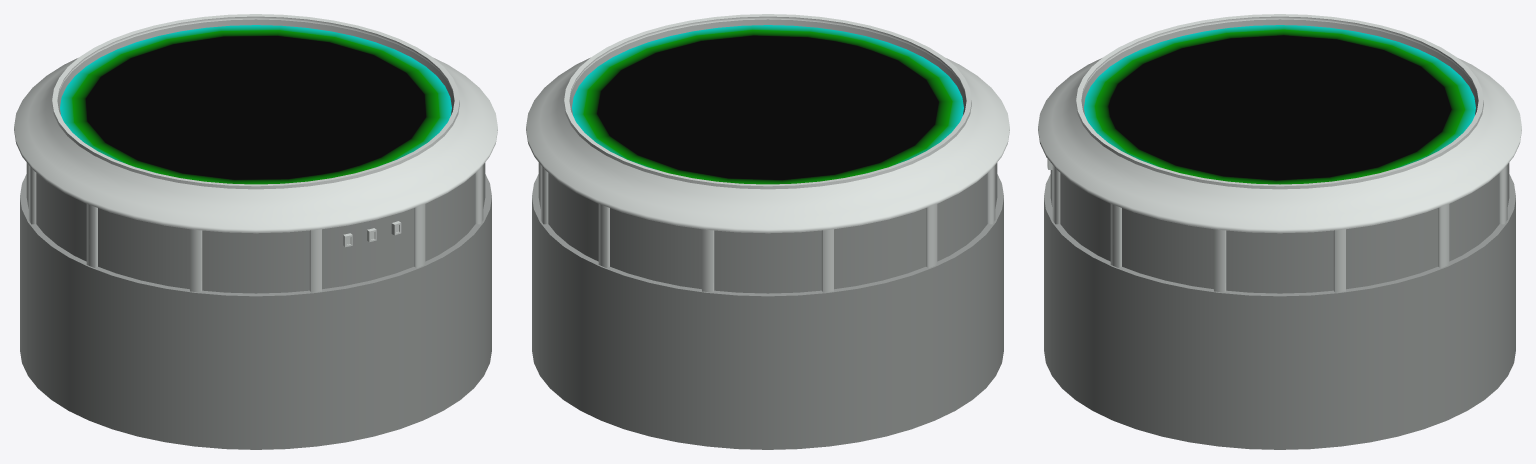
The picture shows the model from 3 angles, left to right: view 1: azimuth 30°, elevation 25°; view 2: azimuth 150°, elevation 25°; view 3: azimuth 270°, elevation 25°; orthographic projection.
Parts seen in each view (by area): view 1: G:\FFXIV-MapTools\exports\e3f2\bg\ex2\02_est_e3\fld\e3f2\bgp (×7); view 2: G:\FFXIV-MapTools\exports\e3f2\bg\ex2\02_est_e3\fld\e3f2\bgp (×7); view 3: G:\FFXIV-MapTools\exports\e3f2\bg\ex2\02_est_e3\fld\e3f2\bgp (×7).
Boxes of the visible parts, <box> form: G:\FFXIV-MapTools\exports\e3f2\bg\ex2\02_est_e3\fld\e3f2\bgp (×7): <box>14,14,497,449</box>; G:\FFXIV-MapTools\exports\e3f2\bg\ex2\02_est_e3\fld\e3f2\bgp (×7): <box>526,14,1009,449</box>; G:\FFXIV-MapTools\exports\e3f2\bg\ex2\02_est_e3\fld\e3f2\bgp (×7): <box>1038,14,1521,449</box>.
Size of the model in its own units: 276 by 157 by 276.
